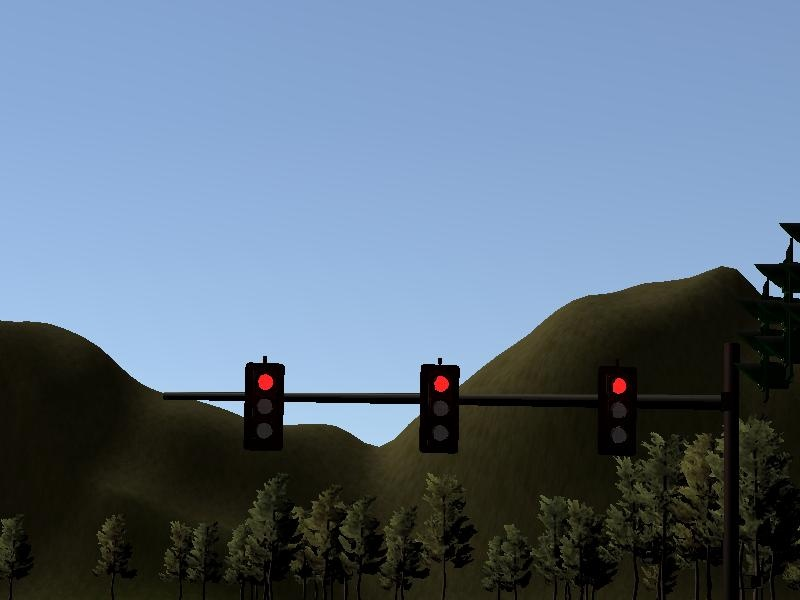red: (418, 361, 461, 455), (598, 364, 638, 456), (244, 362, 284, 450)
